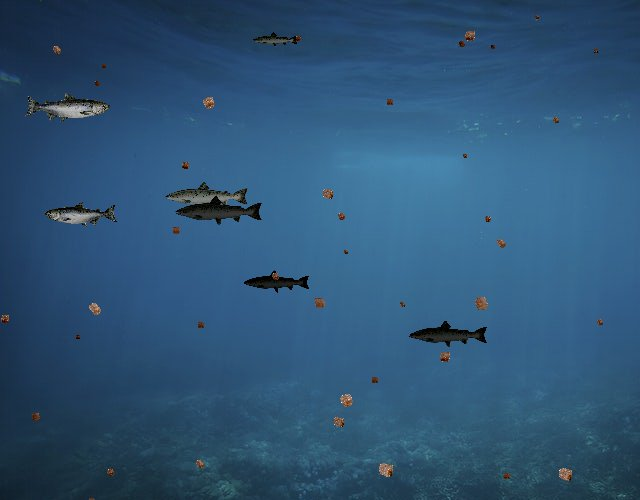Fish: (174, 194, 264, 227), (164, 180, 250, 211), (24, 92, 110, 123), (408, 319, 489, 349), (46, 202, 119, 228), (243, 269, 311, 294), (253, 31, 300, 48)
Pellet: (316, 183, 339, 206), (491, 233, 511, 253), (47, 41, 66, 60), (177, 157, 194, 174), (368, 373, 382, 387), (91, 77, 104, 90), (460, 150, 470, 160)
